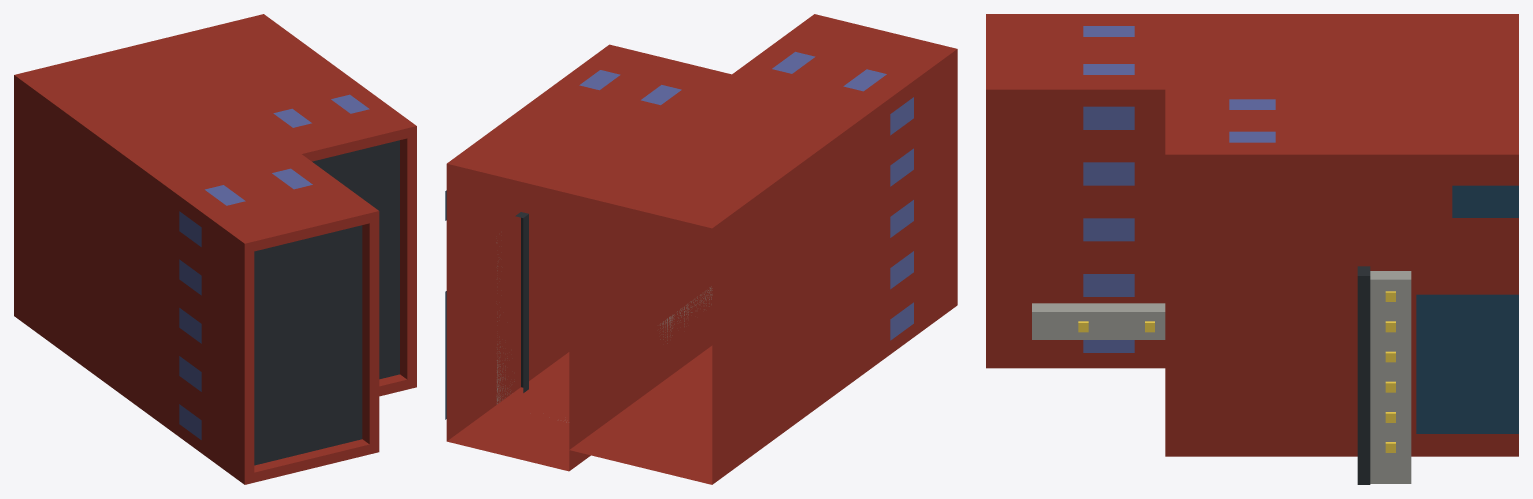
File: construction_1.glb
3 renders of one model, left to right at view 1: azimuth 30°, elevation 25°; view 2: azimuth 150°, elevation 25°; view 3: azimuth 270°, elevation 25°, orthographic. The views are drawn at different scales.
Visible parts, largest first — view 1: construction_1; view 2: construction_1; view 3: construction_1.
Part boxes in pixels (x1,y1,x2,y2): construction_1: (14, 14, 416, 484); construction_1: (445, 14, 957, 484); construction_1: (986, 14, 1518, 484).
Bounding box in the file's own units: 14.01 × 13.86 × 20.8.
